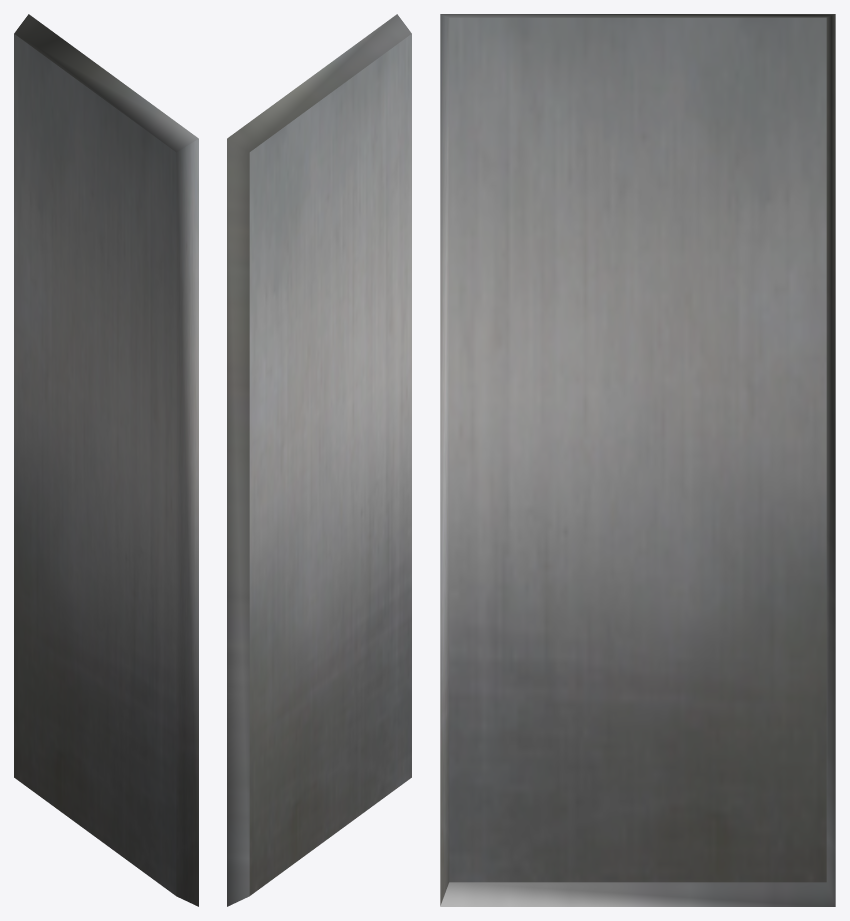
The model's file is Elevator_left.fbx.
3 views of the same model, side by side, from view 1: azimuth 30°, elevation 25°; view 2: azimuth 150°, elevation 25°; view 3: azimuth 270°, elevation 25° (orthographic). The views are drawn at different scales.
Parts seen in each view (by area): view 1: Elevator_Left; view 2: Elevator_Left; view 3: Elevator_Left.
Boxes of the visible parts, left/top/right/bottom form: Elevator_Left: left=14, top=14, right=198, bottom=906; Elevator_Left: left=227, top=14, right=411, bottom=906; Elevator_Left: left=440, top=14, right=835, bottom=906.
Size of the model in its own units: 0.8461 by 33.47 by 13.44.
Materials: 2 (2 with a texture image).
